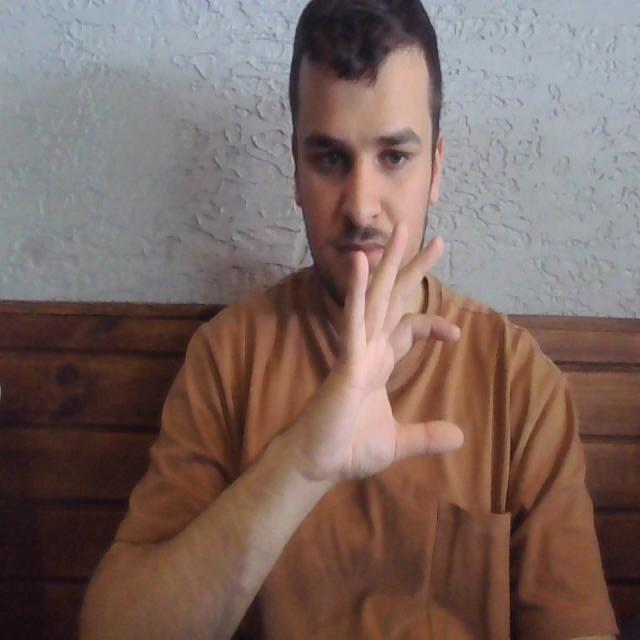Tuvalet: (282, 205, 483, 490)
